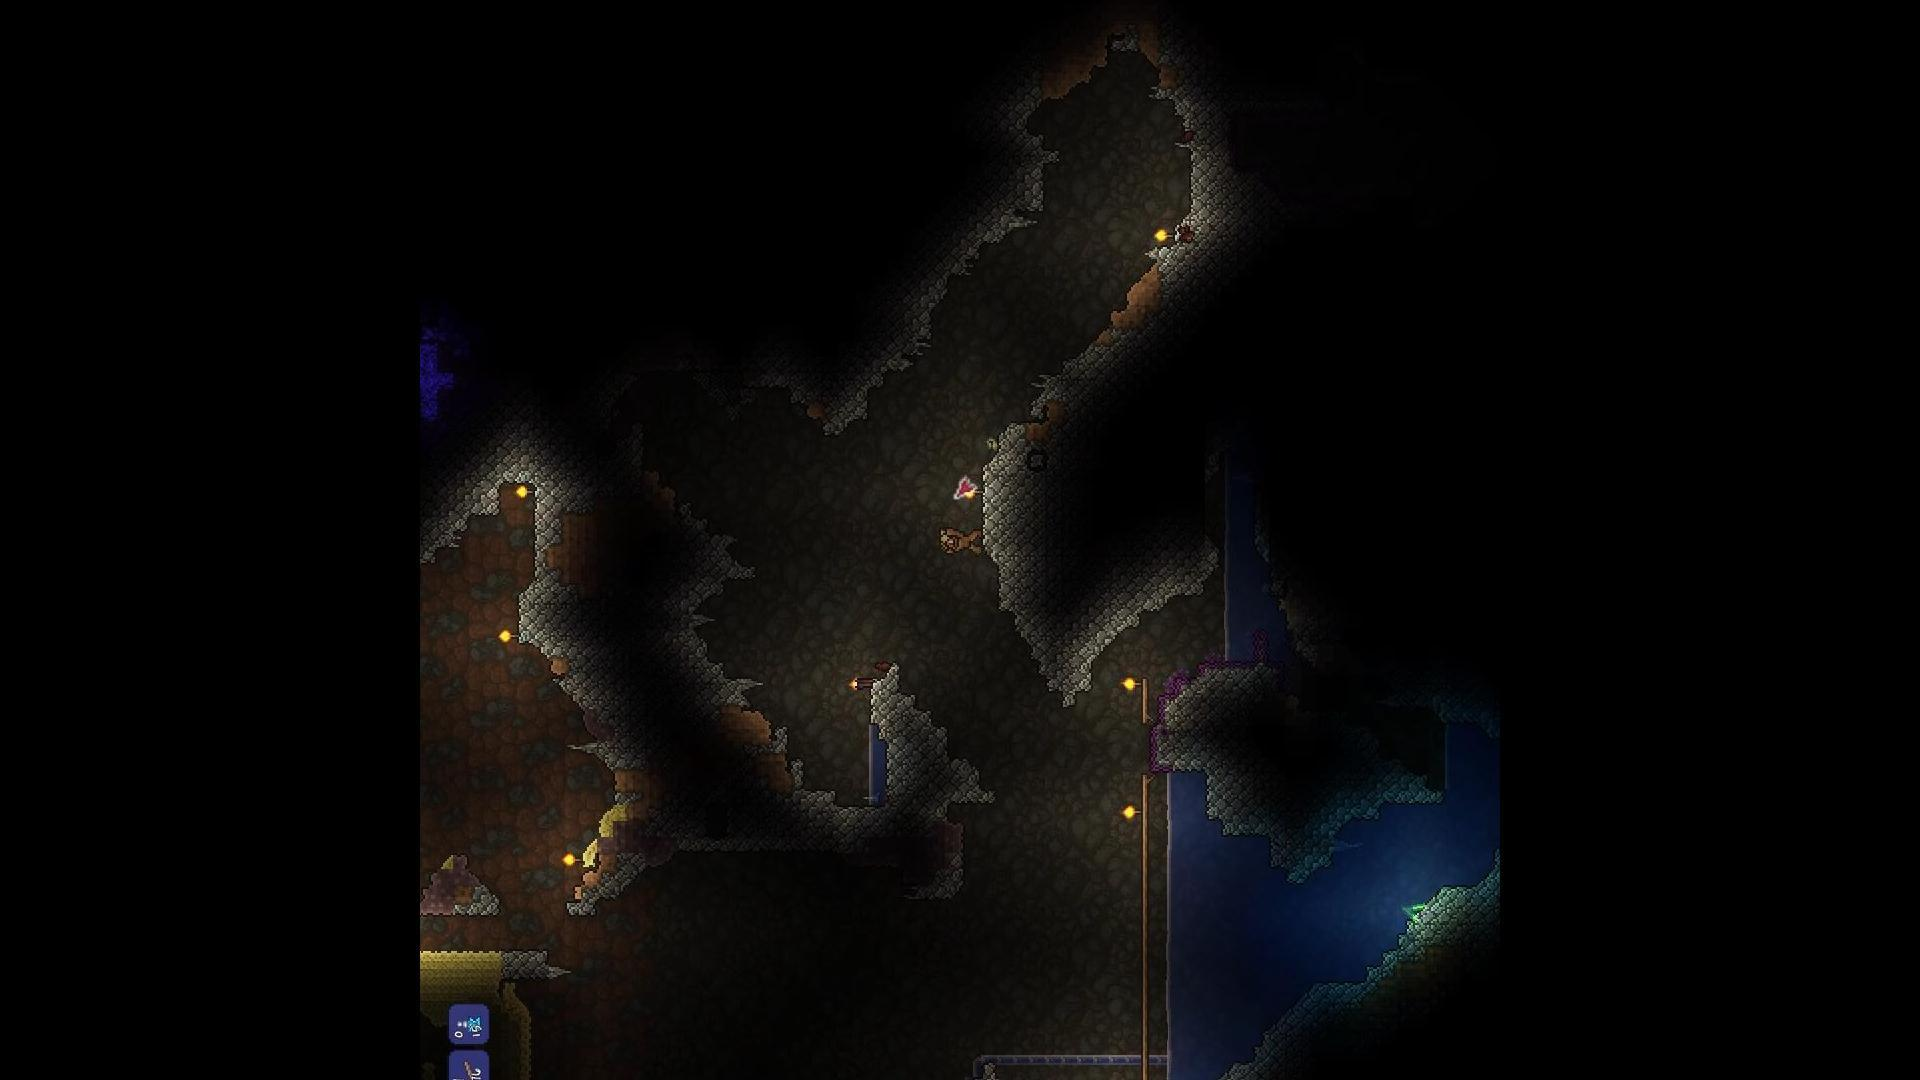glowstick: (1394, 897, 1429, 924)
liquid: (1156, 787, 1187, 829), (1159, 967, 1183, 1010), (1158, 829, 1187, 865), (1158, 865, 1187, 899), (1160, 899, 1187, 931), (1158, 1034, 1185, 1063), (1160, 931, 1183, 967), (1159, 1004, 1183, 1034), (1215, 629, 1240, 655), (1215, 605, 1240, 629), (1215, 582, 1240, 605), (1156, 773, 1185, 787), (1160, 1062, 1182, 1080)
platform: (1139, 799, 1156, 829), (1135, 829, 1156, 853), (1139, 696, 1156, 725), (1135, 1043, 1155, 1065), (1138, 963, 1154, 989), (1138, 778, 1156, 800), (1135, 913, 1153, 936), (1139, 676, 1158, 695), (1137, 1065, 1155, 1080)
